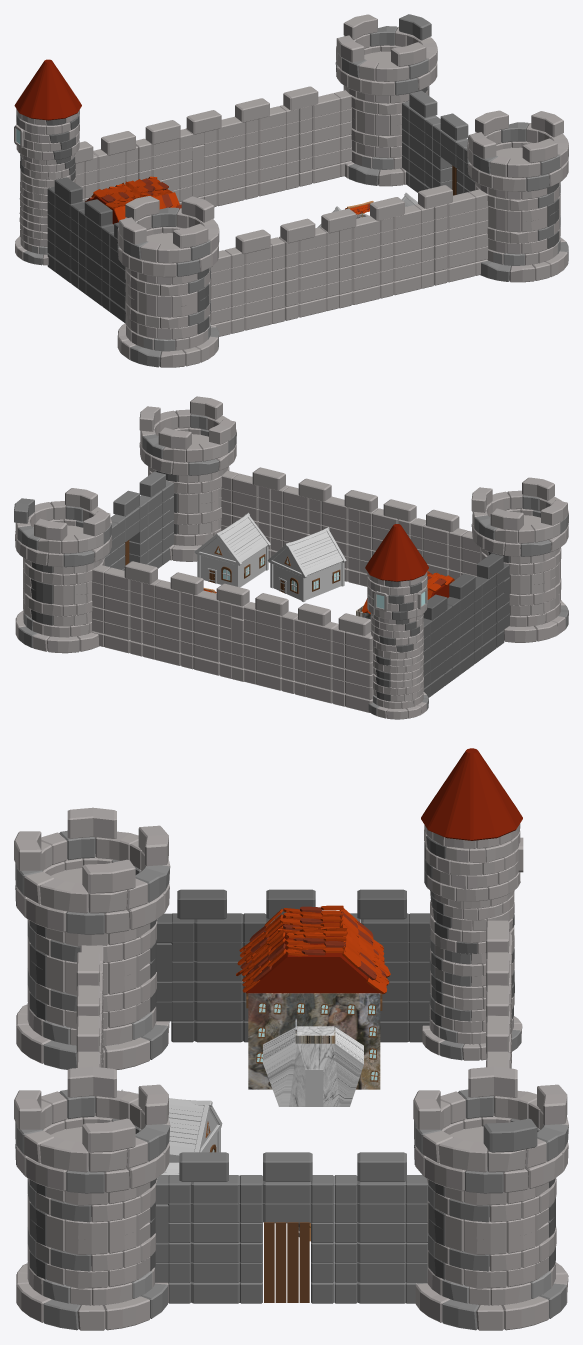
File: zamok2.fbx
3 renders of one model, top to bottom at view 1: azimuth 30°, elevation 25°; view 2: azimuth 150°, elevation 25°; view 3: azimuth 270°, elevation 25°, orthographic. The views are drawn at different scales.
Visible parts, largest first — view 1: Cube.037, Cube.096, Cube.183, Cube.025, Cube.093, Cube.169, Cube.116, Cube.074, Cone, Plane.006; view 2: Cube.096, Cube.037, Cube.093, Cube.183, Cube.025, Cube.169, Cube.116, Cube.074, Cube.004, Cube.018, Cone, Plane.006; view 3: Cube.093, Cube.025, Cube.074, Cube.183, Cube.169, Cube.116, Plane.006, Cube.186, Cube.188, Cone, Cube.187, Cube.096 (+5 smaller).
Boxes of the visible parts, <box> form: Cube.037: <box>211,185,488,336</box>; Cube.096: <box>75,86,352,207</box>; Cube.183: <box>117,196,219,367</box>; Cube.025: <box>467,110,568,282</box>; Cube.093: <box>335,14,437,186</box>; Cube.169: <box>47,177,125,322</box>; Cube.116: <box>15,109,79,265</box>; Cube.074: <box>402,90,474,194</box>; Cone: <box>14,59,81,120</box>; Plane.006: <box>85,176,181,220</box>; Cube.096: <box>92,561,373,712</box>; Cube.037: <box>221,467,479,586</box>; Cube.093: <box>14,488,111,653</box>; Cube.183: <box>471,477,568,642</box>; Cube.025: <box>139,396,236,561</box>; Cube.169: <box>423,553,510,697</box>; Cube.116: <box>367,571,428,719</box>; Cube.074: <box>104,471,174,570</box>; Cube.004: <box>267,526,346,601</box>; Cube.018: <box>194,512,270,587</box>; Cone: <box>365,524,428,581</box>; Plane.006: <box>361,571,454,614</box>; Cube.093: <box>413,1066,568,1330</box>; Cube.025: <box>14,1066,170,1330</box>; Cube.074: <box>154,1152,428,1303</box>; Cube.183: <box>14,807,170,1069</box>; Cube.169: <box>156,889,430,1042</box>; Cube.116: <box>422,823,522,1060</box>; Plane.006: <box>236,905,390,993</box>; Cube.186: <box>248,993,380,1089</box>; Cube.188: <box>263,1026,363,1106</box>; Cone: <box>421,748,522,840</box>; Cube.187: <box>246,912,380,993</box>; Cube.096: <box>486,920,511,1068</box>.
Size of the model in its own units: 3970 by 1667 by 2864.
